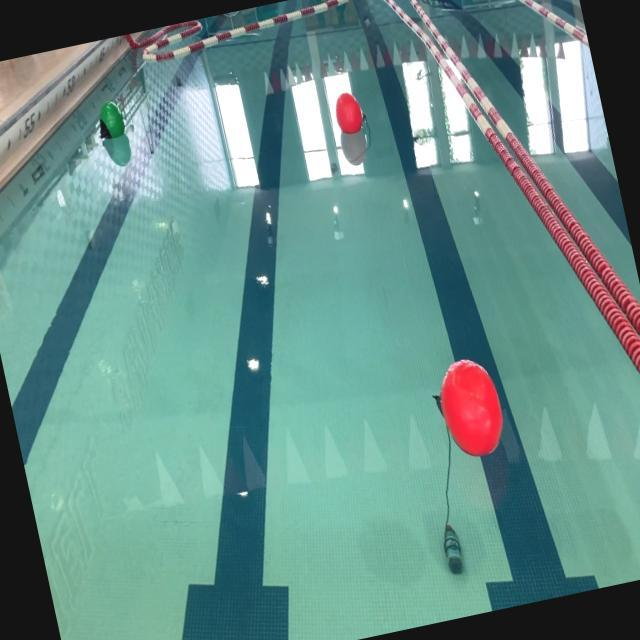buoy: (427, 352, 510, 464), (330, 89, 366, 138), (94, 98, 126, 143)
